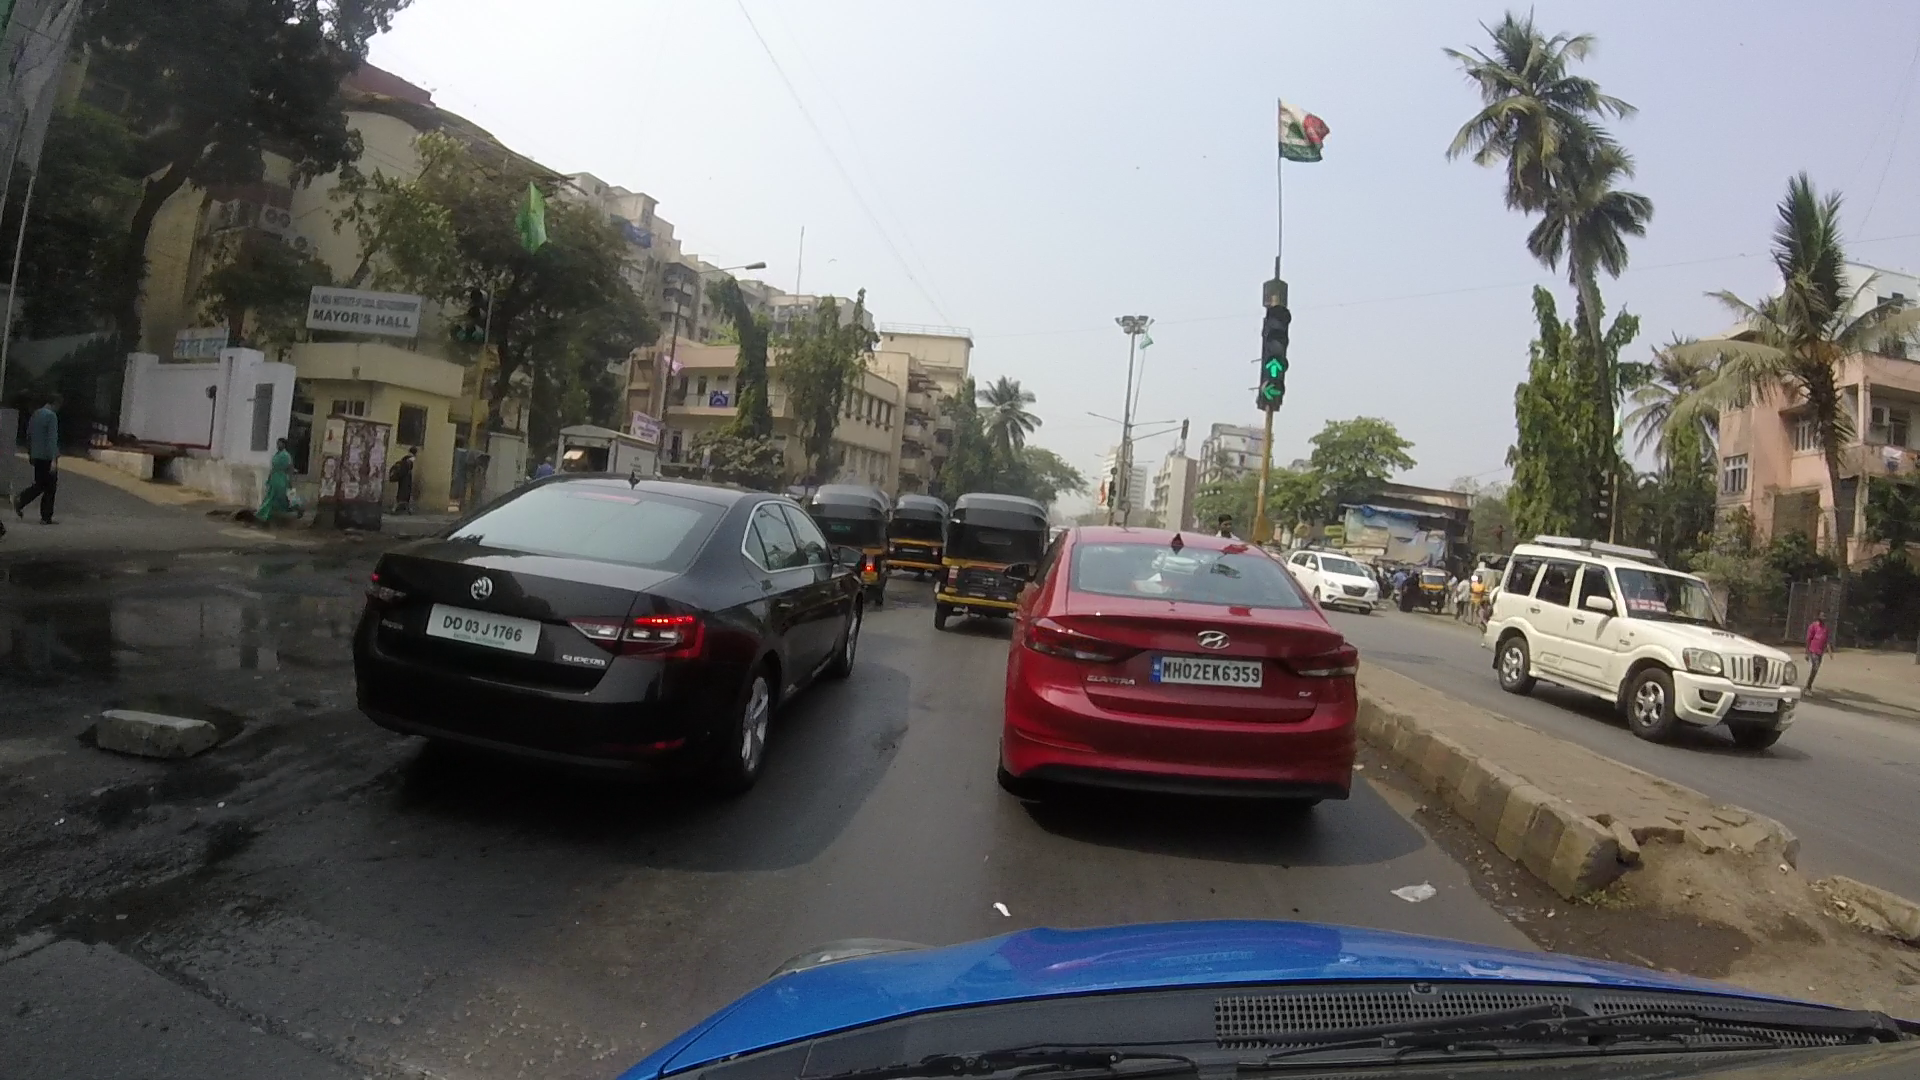car: (352, 460, 847, 781), (1000, 520, 1385, 819), (1487, 539, 1796, 738)
rickshaw: (943, 492, 1040, 633), (808, 487, 884, 589), (878, 498, 945, 580)
